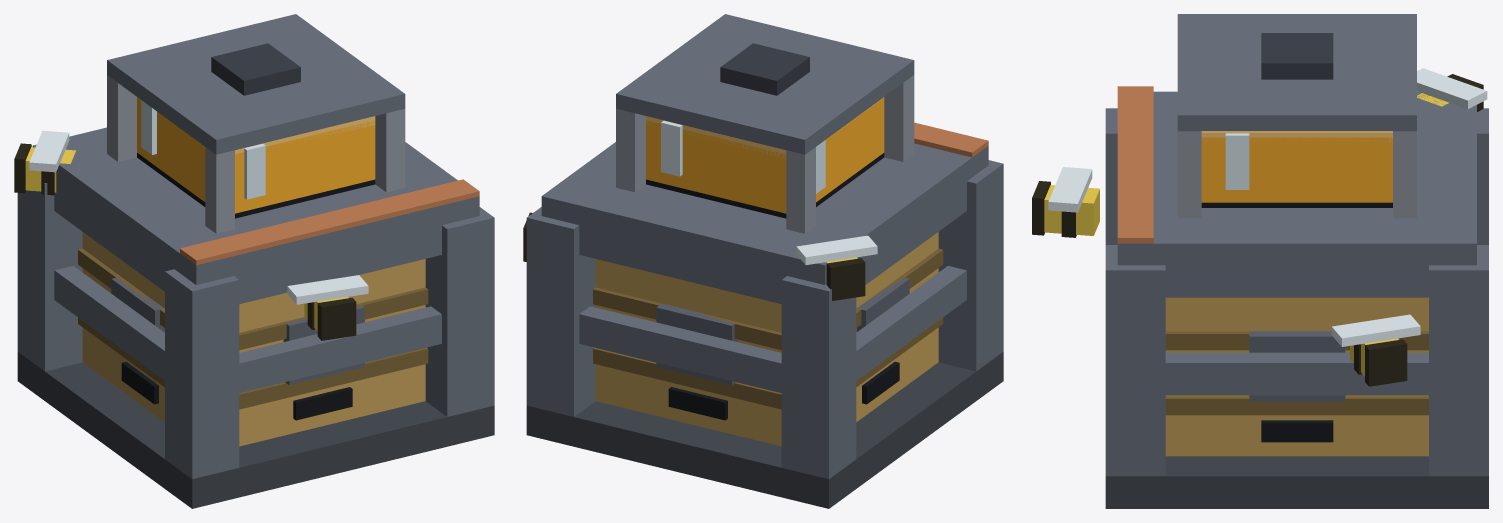
Rendered from apiary.glb.
3 renders of one model, left to right at view 1: azimuth 30°, elevation 25°; view 2: azimuth 150°, elevation 25°; view 3: azimuth 270°, elevation 25°, orthographic. The views are drawn at different scales.
Parts seen in each view (by area): view 1: body.050, level_honey, tier.025, bees; view 2: body.050, level_honey, bees, tier.025; view 3: body.050, level_honey, bees, tier.025.
Part boxes in pixels (x1,y1,x2,y2): body.050: [17, 14, 494, 508]; level_honey: [137, 97, 375, 213]; tier.025: [180, 179, 479, 265]; bees: [14, 130, 368, 340]; body.050: [526, 14, 1003, 508]; level_honey: [646, 97, 884, 213]; bees: [523, 212, 877, 300]; tier.025: [914, 122, 988, 157]; body.050: [1105, 14, 1488, 508]; level_honey: [1201, 131, 1392, 202]; bees: [1032, 68, 1487, 386]; tier.025: [1117, 86, 1153, 243].
Size of the model in its own units: 1.24 by 1.09 by 1.19.
